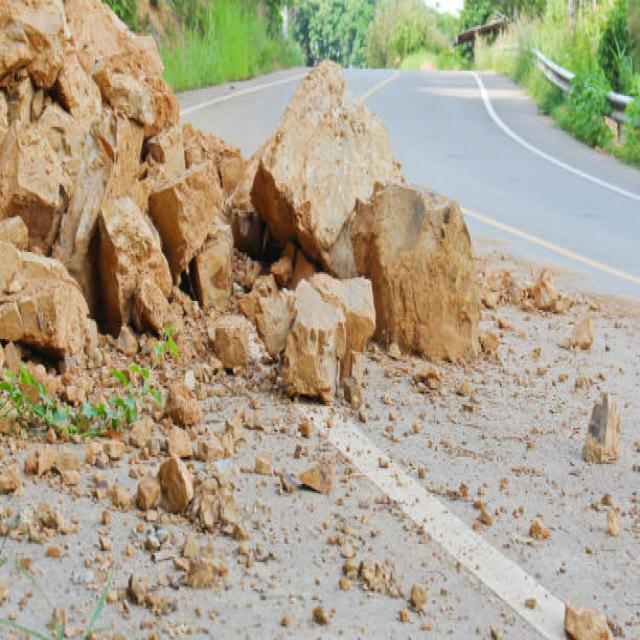landSliding: (6, 29, 539, 489)
